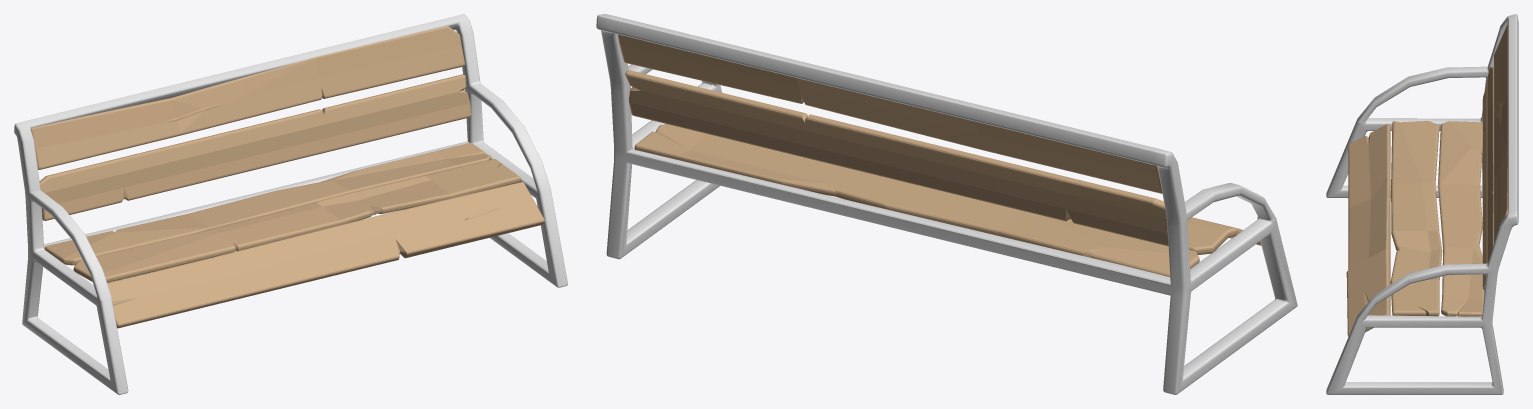
The model's file is SM_Bench_HP.fbx.
3 renders of one model, left to right at view 1: azimuth 30°, elevation 25°; view 2: azimuth 150°, elevation 25°; view 3: azimuth 270°, elevation 25°, orthographic. The views are drawn at different scales.
Parts seen in each view (by area): view 1: Bench_HP; view 2: Bench_HP; view 3: Bench_HP.
Boxes of the visible parts, x1=… form: Bench_HP: x1=14, y1=14, x2=567, y2=394; Bench_HP: x1=596, y1=14, x2=1297, y2=394; Bench_HP: x1=1326, y1=14, x2=1518, y2=394.
Bounding box in the file's own units: 2.64 × 1.1 × 1.06.
